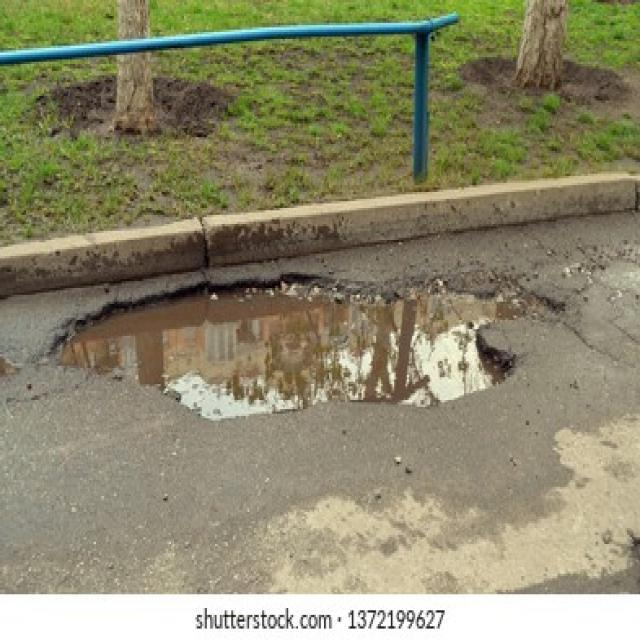Pothole: (51, 272, 566, 420)
